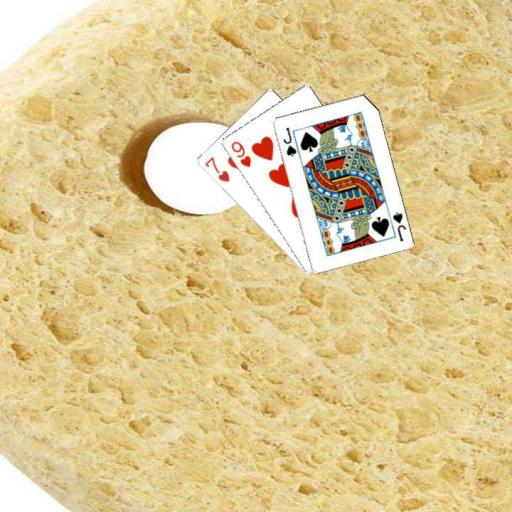7H: (201, 154, 231, 184)
9H: (228, 138, 253, 168)
JS: (279, 124, 298, 158), (389, 209, 407, 243)
